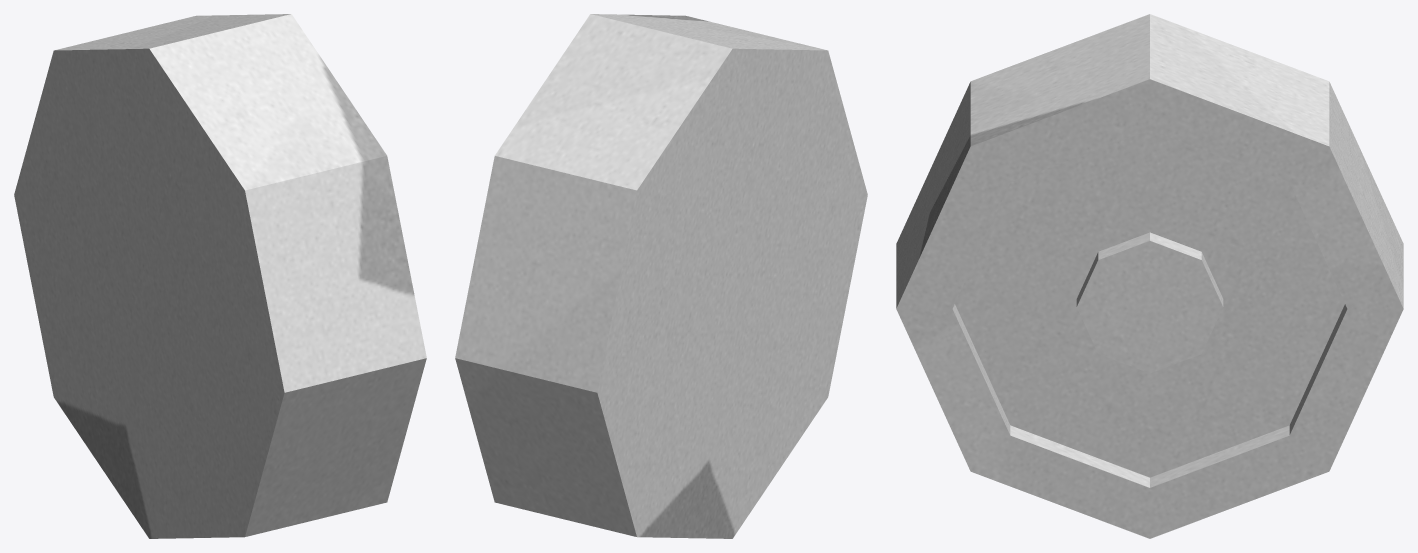
File: Narushat-C_wheel.obj
3 views of the same model, side by side, from view 1: azimuth 30°, elevation 25°; view 2: azimuth 150°, elevation 25°; view 3: azimuth 270°, elevation 25° (orthographic). The views are drawn at different scales.
Visible parts, largest first — view 1: Cylinder.004_Cylinder.011; view 2: Cylinder.004_Cylinder.011; view 3: Cylinder.004_Cylinder.011.
Part boxes in pixels (<box>): Cylinder.004_Cylinder.011: <box>14,14,426,538</box>; Cylinder.004_Cylinder.011: <box>455,14,867,538</box>; Cylinder.004_Cylinder.011: <box>896,14,1403,538</box>.
Bounding box in the file's own units: 0.0461 × 0.1518 × 0.1518.
